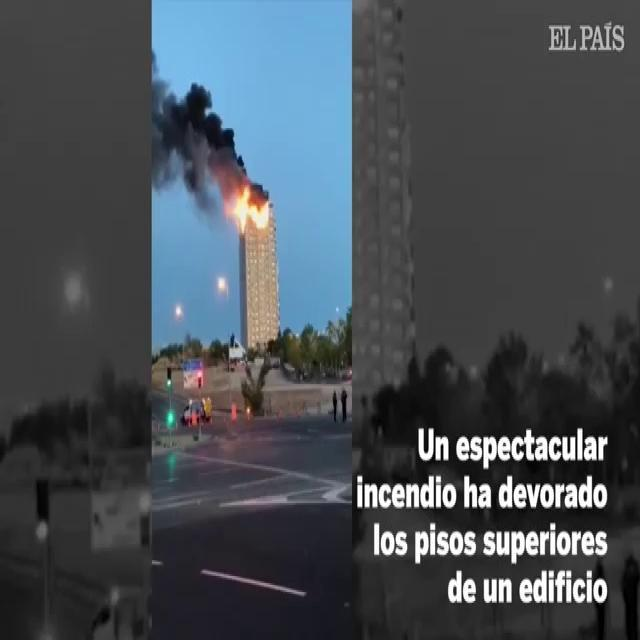Fire: (232, 183, 272, 233)
Smoke: (150, 54, 233, 210), (234, 151, 265, 195)
